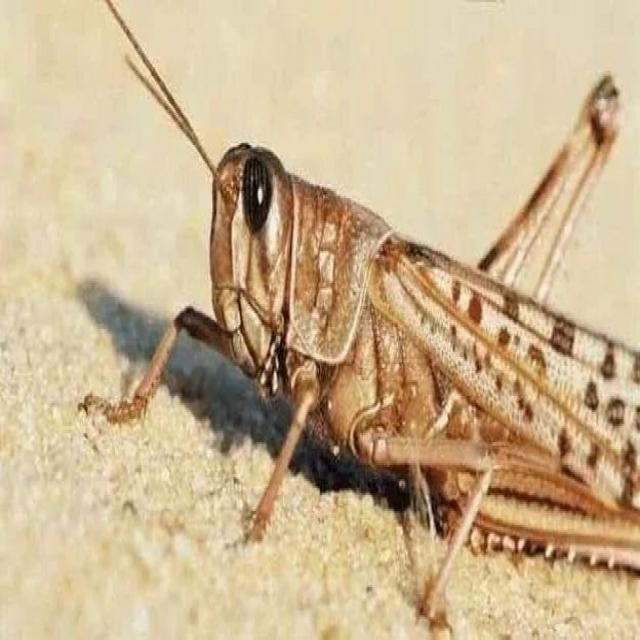ZhaMeng: (170, 101, 627, 589)
